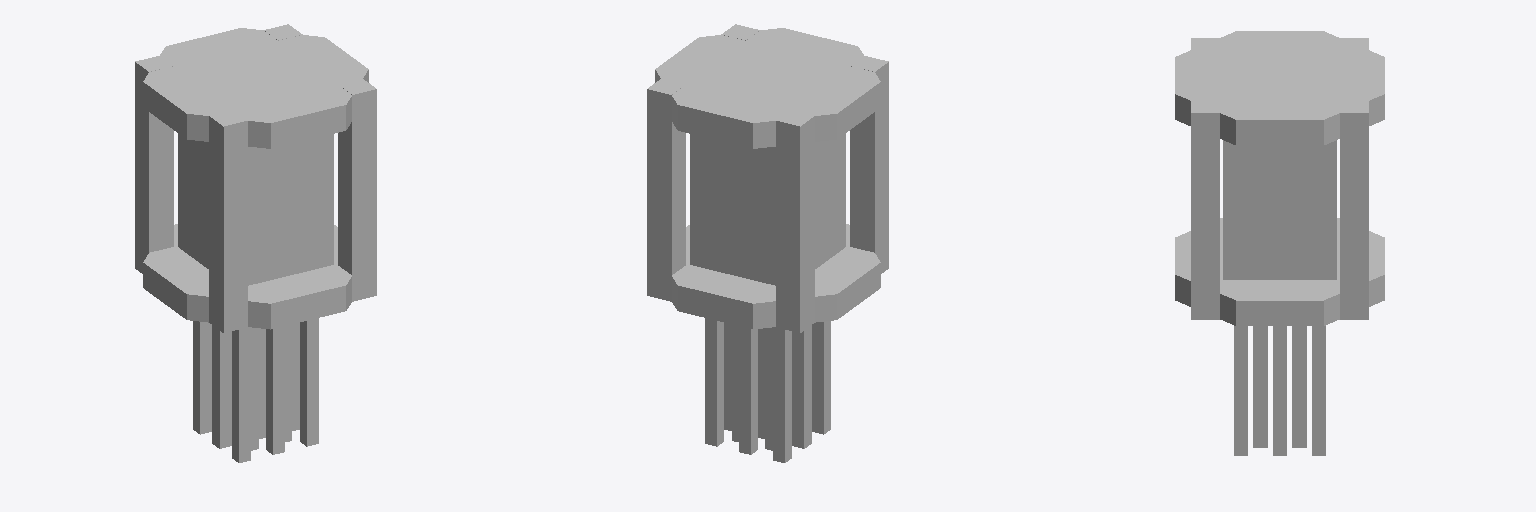
Rendered from NuclearReactor.obj.
The picture shows the model from 3 angles: view 1: azimuth 30°, elevation 25°; view 2: azimuth 150°, elevation 25°; view 3: azimuth 270°, elevation 25°; orthographic projection.
Visible parts, largest first — view 1: Base, Rod; view 2: Base, Rod; view 3: Base, Rod.
Part boxes in pixels (left/top/right/bottom): Base: left=135, top=24, right=376, bottom=332; Rod: left=193, top=318, right=318, bottom=462; Base: left=647, top=24, right=888, bottom=332; Rod: left=705, top=318, right=830, bottom=462; Base: left=1175, top=31, right=1384, bottom=325; Rod: left=1234, top=326, right=1325, bottom=455.
Bounding box in the file's own units: 0.9239 × 1.75 × 0.9239.